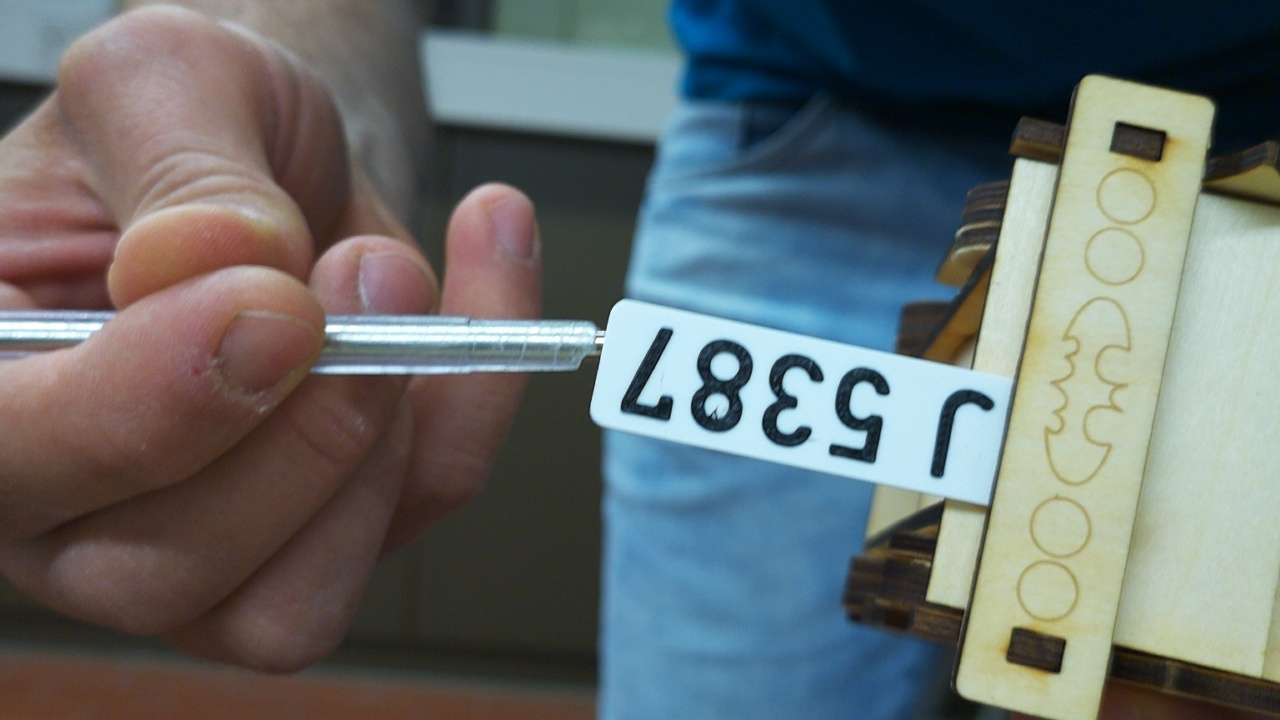license_plate: (588, 294, 1022, 509), (586, 385, 590, 388)
